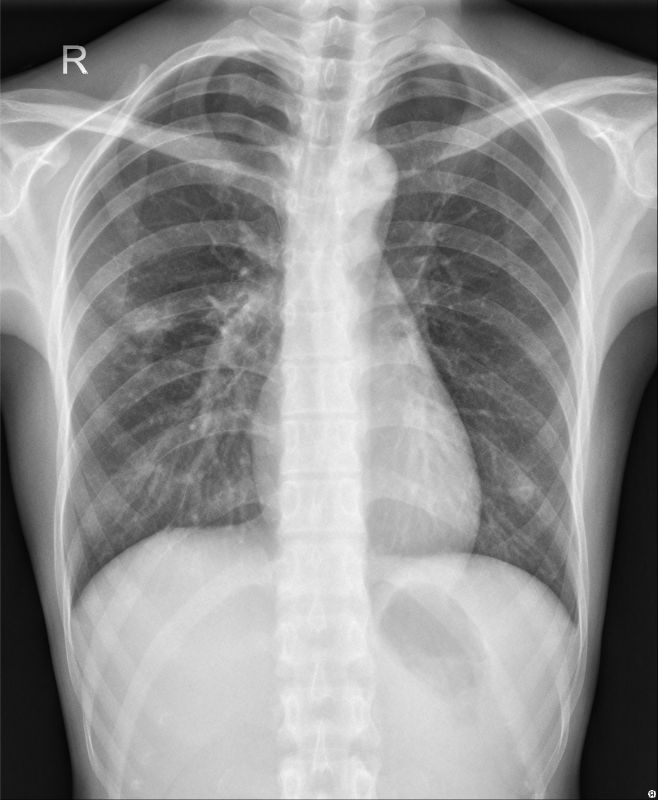Tuberculosis (TB): (116, 287, 179, 356)
